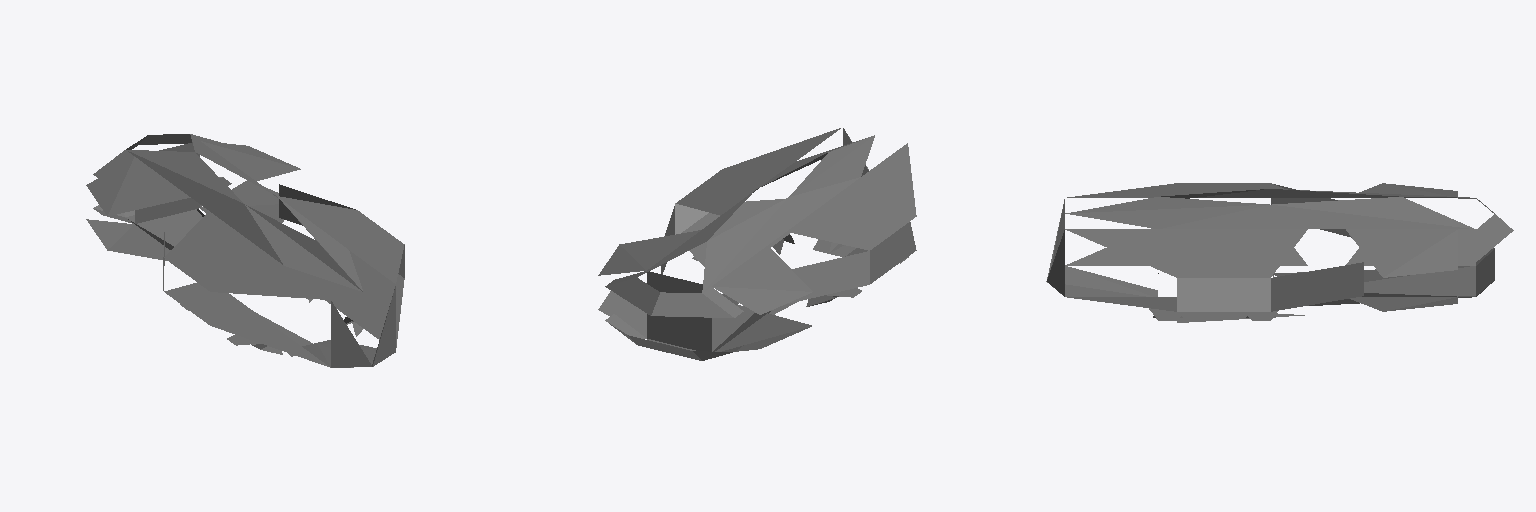
Rendered from ShipTwoFill.obj.
The picture shows the model from 3 angles: view 1: azimuth 30°, elevation 25°; view 2: azimuth 150°, elevation 25°; view 3: azimuth 270°, elevation 25°; orthographic projection.
Parts seen in each view (by area): view 1: Cube.000_Cube.001; view 2: Cube.000_Cube.001, Cube.001_Cube.004; view 3: Cube.000_Cube.001, Cube.001_Cube.004.
Part boxes in pixels (left/top/right/bottom): Cube.000_Cube.001: left=86, top=134, right=404, bottom=367; Cube.000_Cube.001: left=598, top=128, right=916, bottom=360; Cube.001_Cube.004: left=675, top=203, right=708, bottom=234; Cube.000_Cube.001: left=1046, top=183, right=1513, bottom=322; Cube.001_Cube.004: left=1177, top=278, right=1270, bottom=311.
Size of the model in its own units: 12 by 7 by 25.